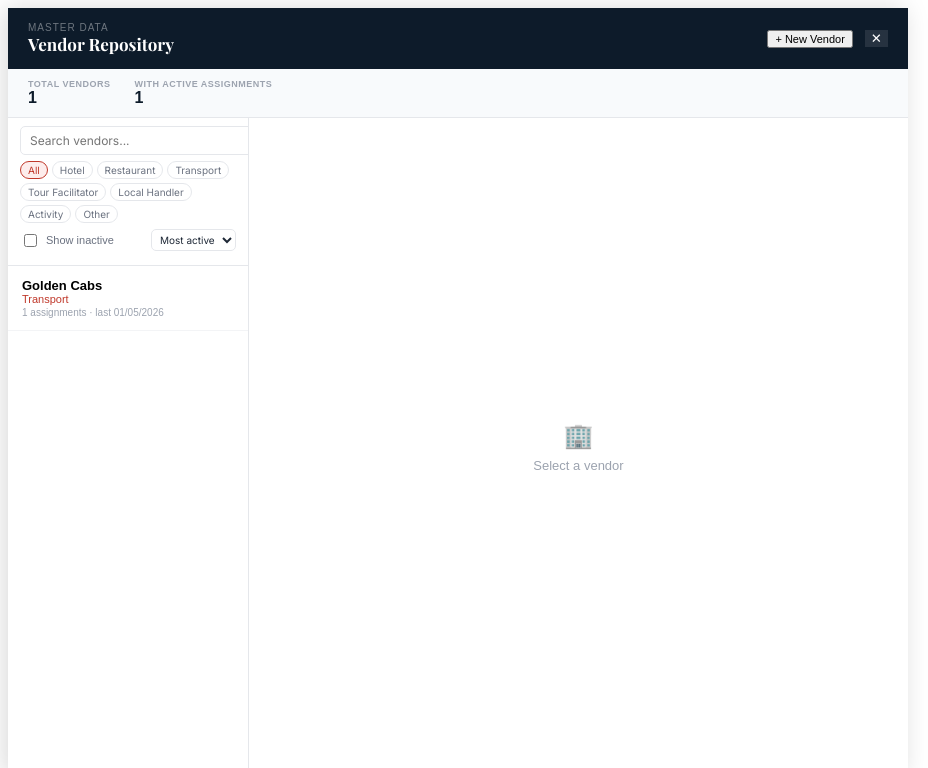
item 4 (real fix): Vendor Master Service History tour file badge was still not clickable -- missed in the earlier item 1 pass › clicking the tour file badge in Service History opens that query
Later steps or results of the test are not shown.
Click the text "Golden Cabs": {"x": 62, "y": 286} 22,278 -> 102,293
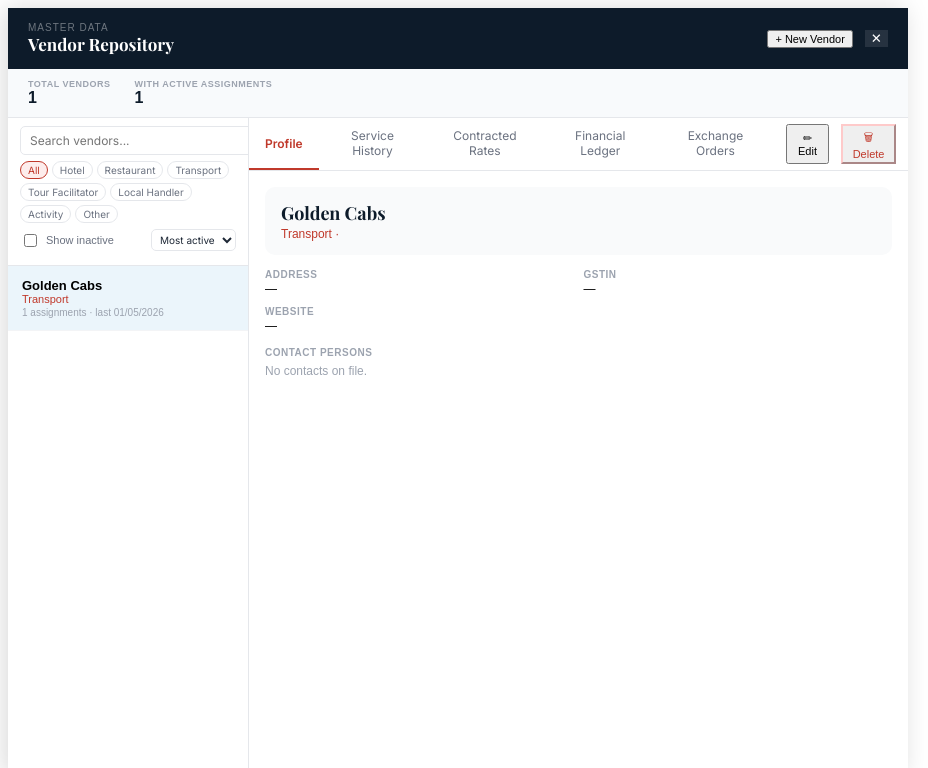
Click the button "Service History": {"x": 372, "y": 144} 319,118 -> 426,170
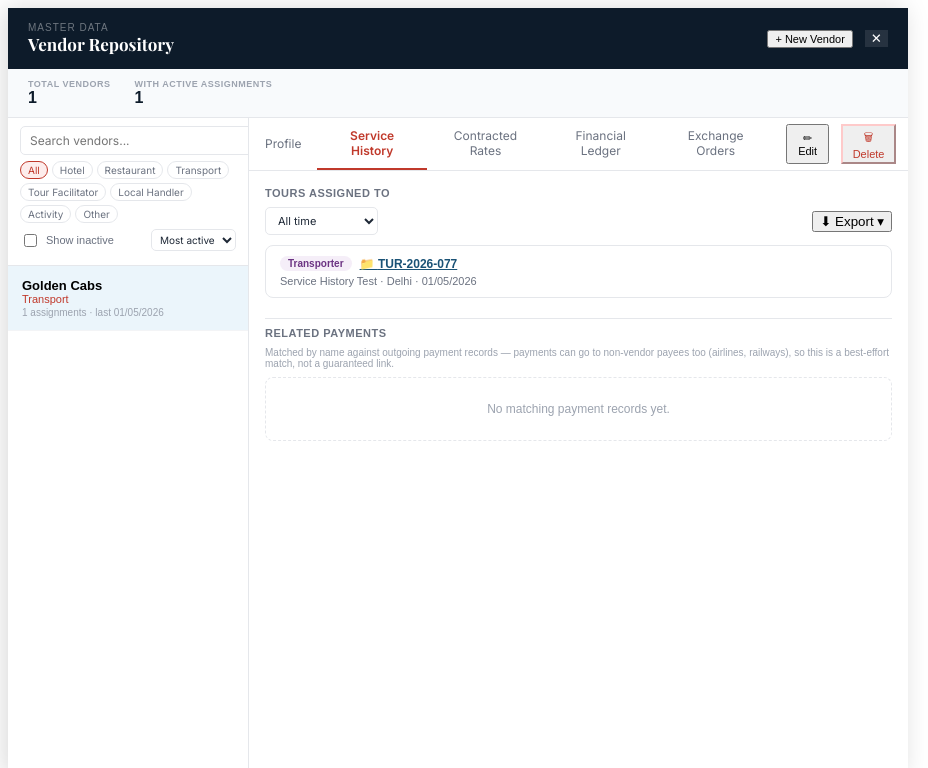
Check: the text "📁 TUR-2026-077" is shown, box 360,256 -> 457,270
